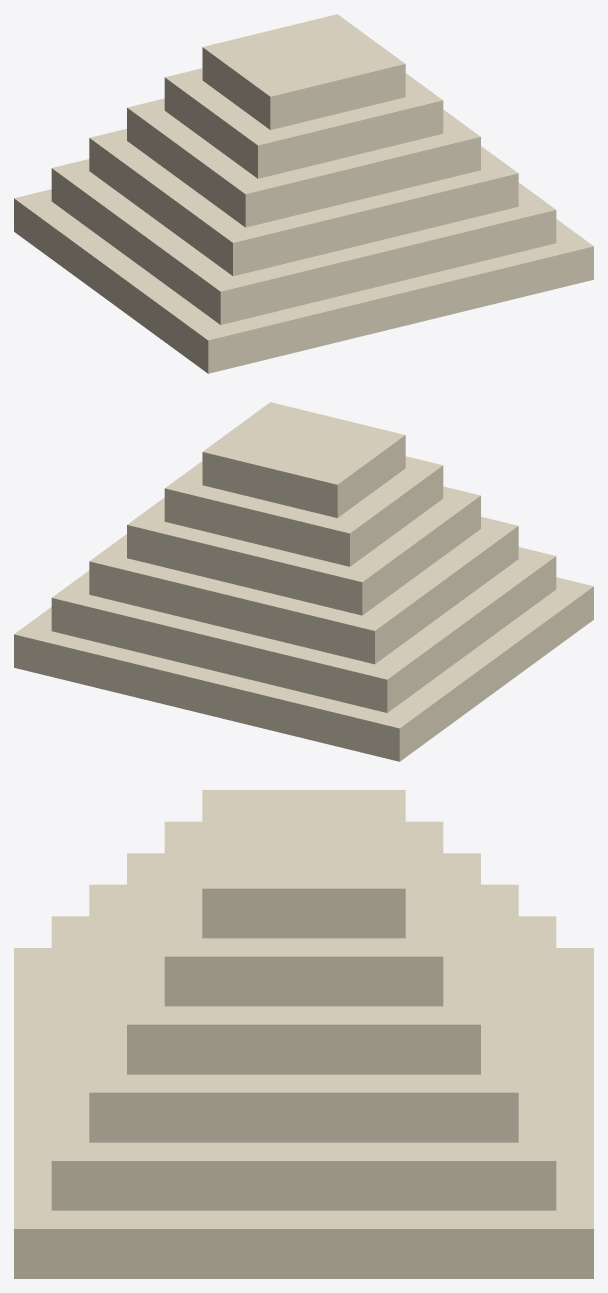
Rendered from place-saqqara-step-pyramid.glb.
The picture shows the model from 3 angles, top to bottom: view 1: azimuth 30°, elevation 25°; view 2: azimuth 150°, elevation 25°; view 3: azimuth 270°, elevation 25°; orthographic projection. The views are drawn at different scales.
Visible parts, largest first — view 1: place-saqqara-step-pyramid; view 2: place-saqqara-step-pyramid; view 3: place-saqqara-step-pyramid.
Part boxes in pixels (box(x1,y1,x2,y2)): place-saqqara-step-pyramid: box(14, 14, 593, 373); place-saqqara-step-pyramid: box(14, 402, 593, 761); place-saqqara-step-pyramid: box(14, 790, 593, 1278).
Bounding box in the file's own units: 125 × 62 × 109.
